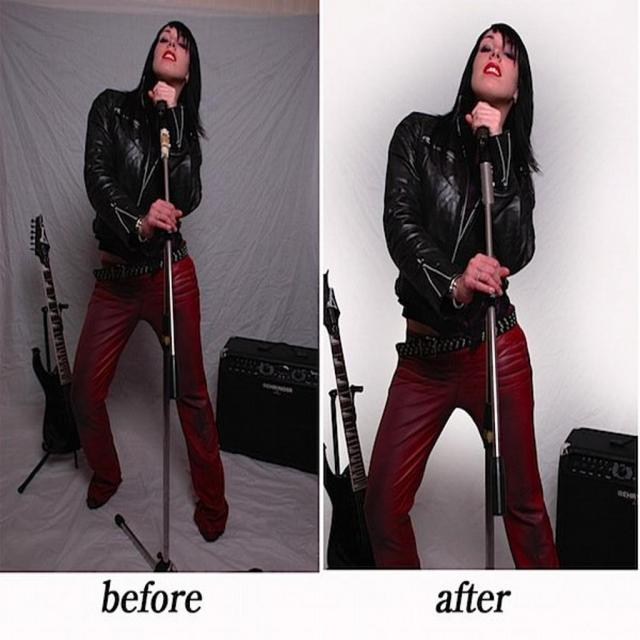nomask: (474, 25, 520, 106), (154, 22, 196, 84)
